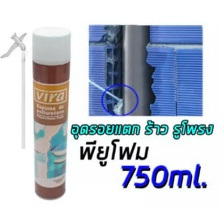aerosol_cans: (26, 19, 74, 203)
